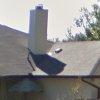Chimney: (26, 3, 54, 56)
